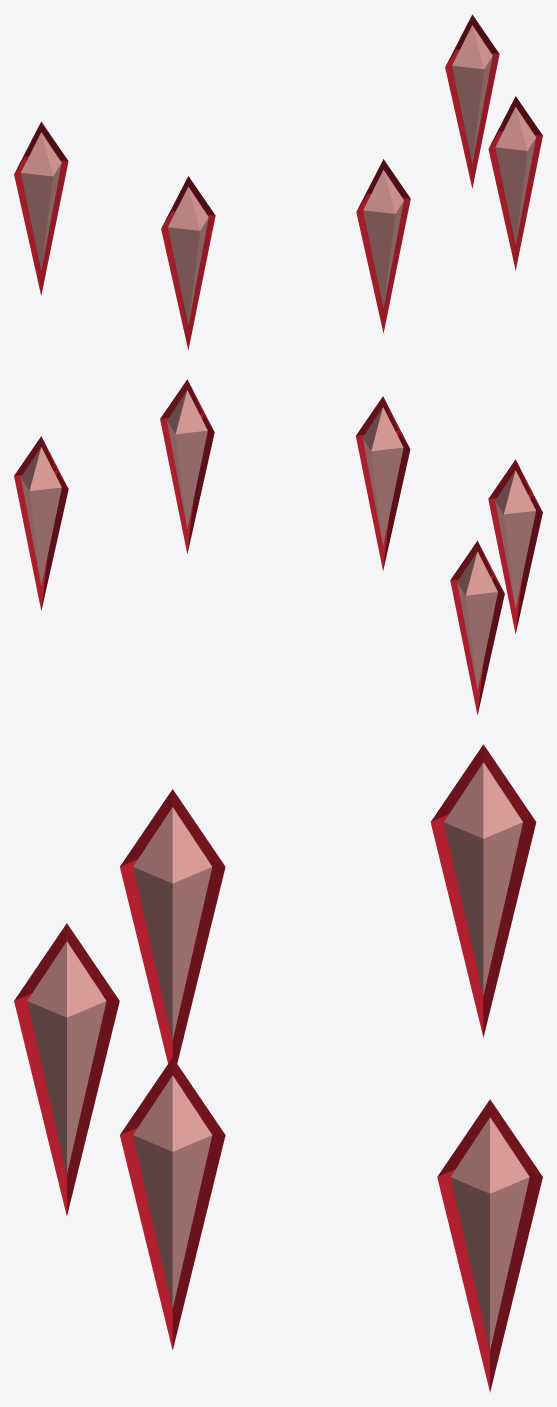
Rendered from projectile_ranged.gltf.
3 renders of one model, top to bottom at view 1: azimuth 30°, elevation 25°; view 2: azimuth 150°, elevation 25°; view 3: azimuth 270°, elevation 25°, orthographic. The views are drawn at different scales.
Size of the model in its own units: 143 by 49 by 80.
Materials: 1 (1 with a texture image).
